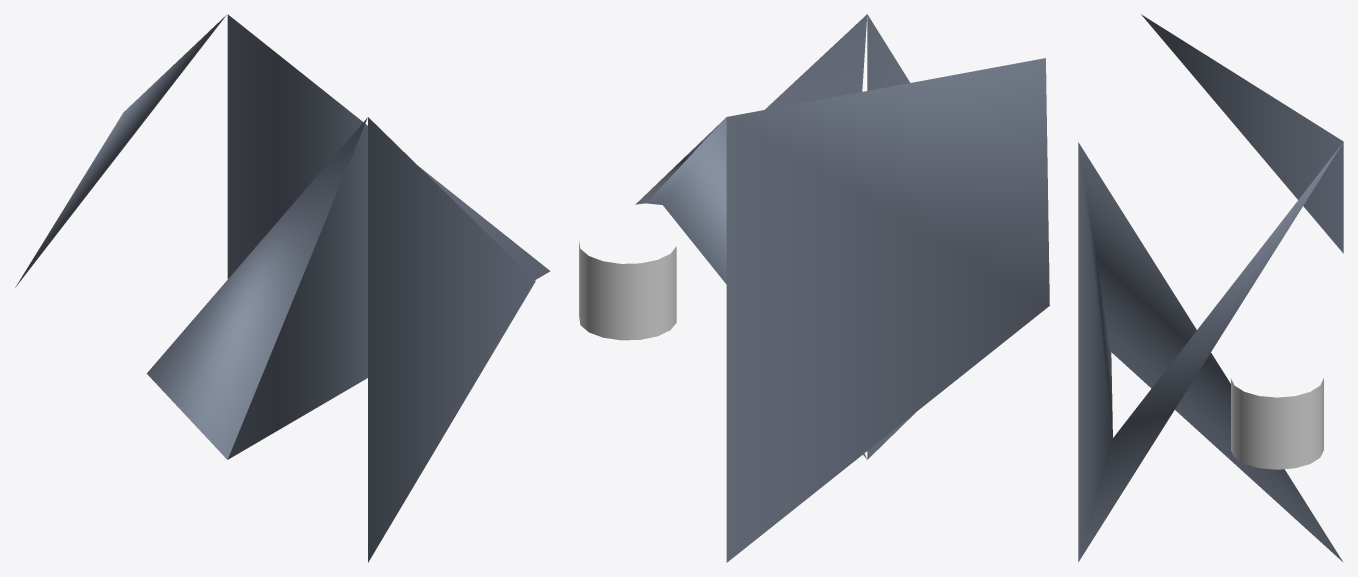
The model's file is centrifugal_pump.glb.
The picture shows the model from 3 angles, left to right: view 1: azimuth 30°, elevation 25°; view 2: azimuth 150°, elevation 25°; view 3: azimuth 270°, elevation 25°; orthographic projection. The views are drawn at different scales.
Parts seen in each view (by area): view 1: DriveMotor; view 2: DriveMotor, SuctionFlange; view 3: DriveMotor, SuctionFlange.
Part boxes in pixels (x1,y1,x2,y2): DriveMotor: [15, 14, 550, 562]; DriveMotor: [635, 14, 1049, 562]; SuctionFlange: [579, 241, 676, 340]; DriveMotor: [1078, 14, 1343, 562]; SuctionFlange: [1231, 378, 1323, 469].
Size of what is drawn, in the model's own units: 3.45 by 3.75 by 2.
